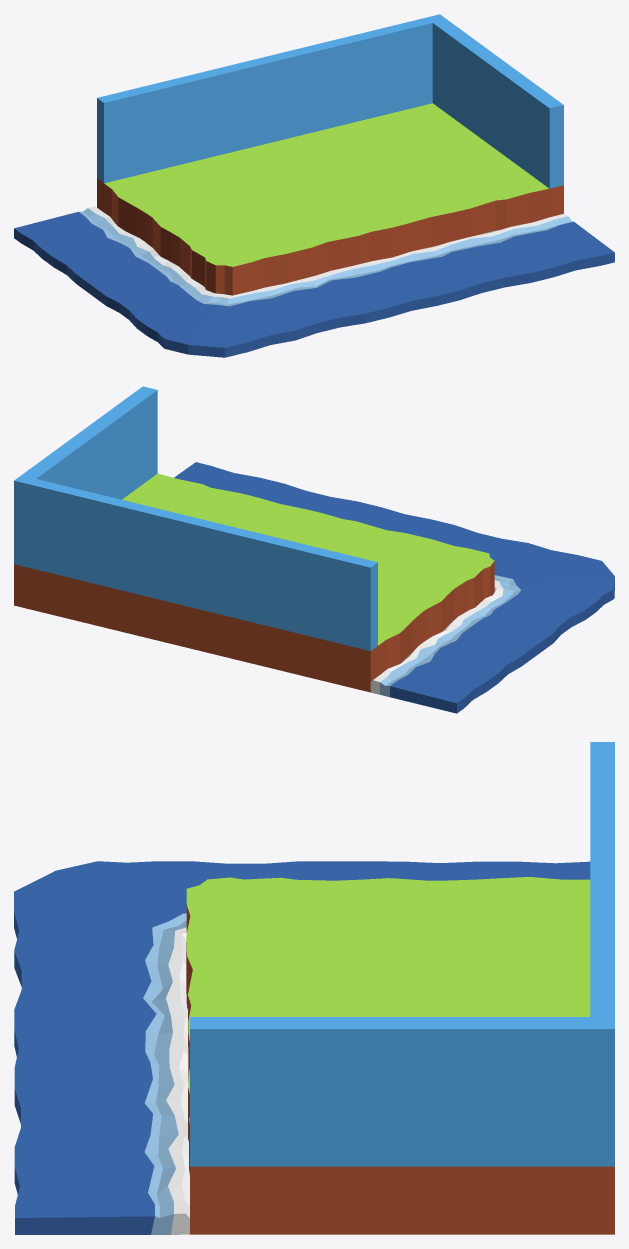
The model's file is mod_World.fbx.
3 views of the same model, one above another, from view 1: azimuth 30°, elevation 25°; view 2: azimuth 150°, elevation 25°; view 3: azimuth 270°, elevation 25° (orthographic). The views are drawn at different scales.
Parts seen in each view (by area): view 1: Yard; view 2: Yard; view 3: Yard.
Part boxes in pixels (x1,y1,x2,y2): Yard: (14, 14, 614, 357); Yard: (14, 386, 614, 713); Yard: (14, 742, 614, 1234).
Size of the model in its own units: 4792 by 6733 by 1811.
